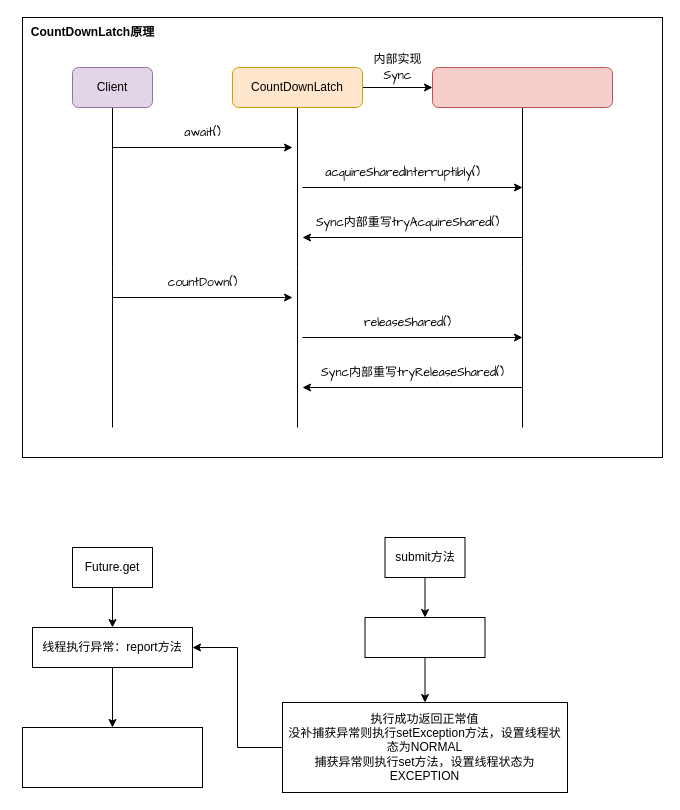
Some shapes in this 680 by 810 pixel diagram are drawn without their labels. The centre of each missing label's shape, as x and y in pixels:
"AbstractQueuedSynchronizer" belongs at (522,87).
"执行FutureTask的run方法" belongs at (424,637).
"根据线程状态： NORMAL：返回正常值 EXCEPTIONAL：返回异常" belongs at (112,757).
